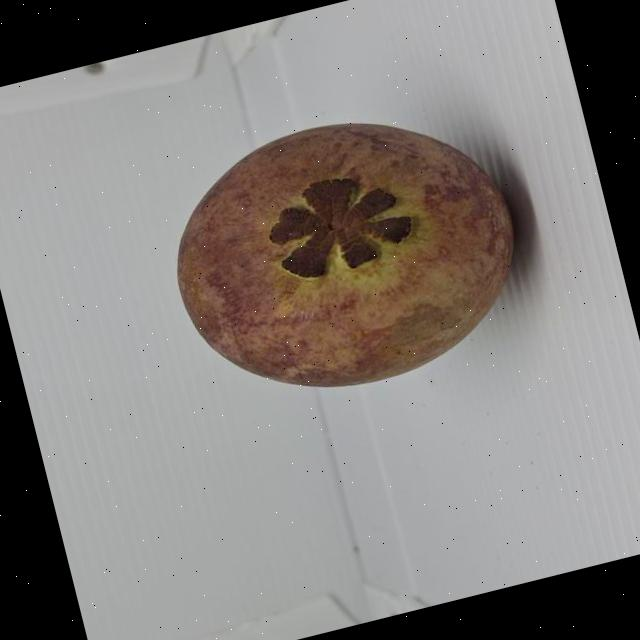mangosteen: (111, 44, 574, 438)
